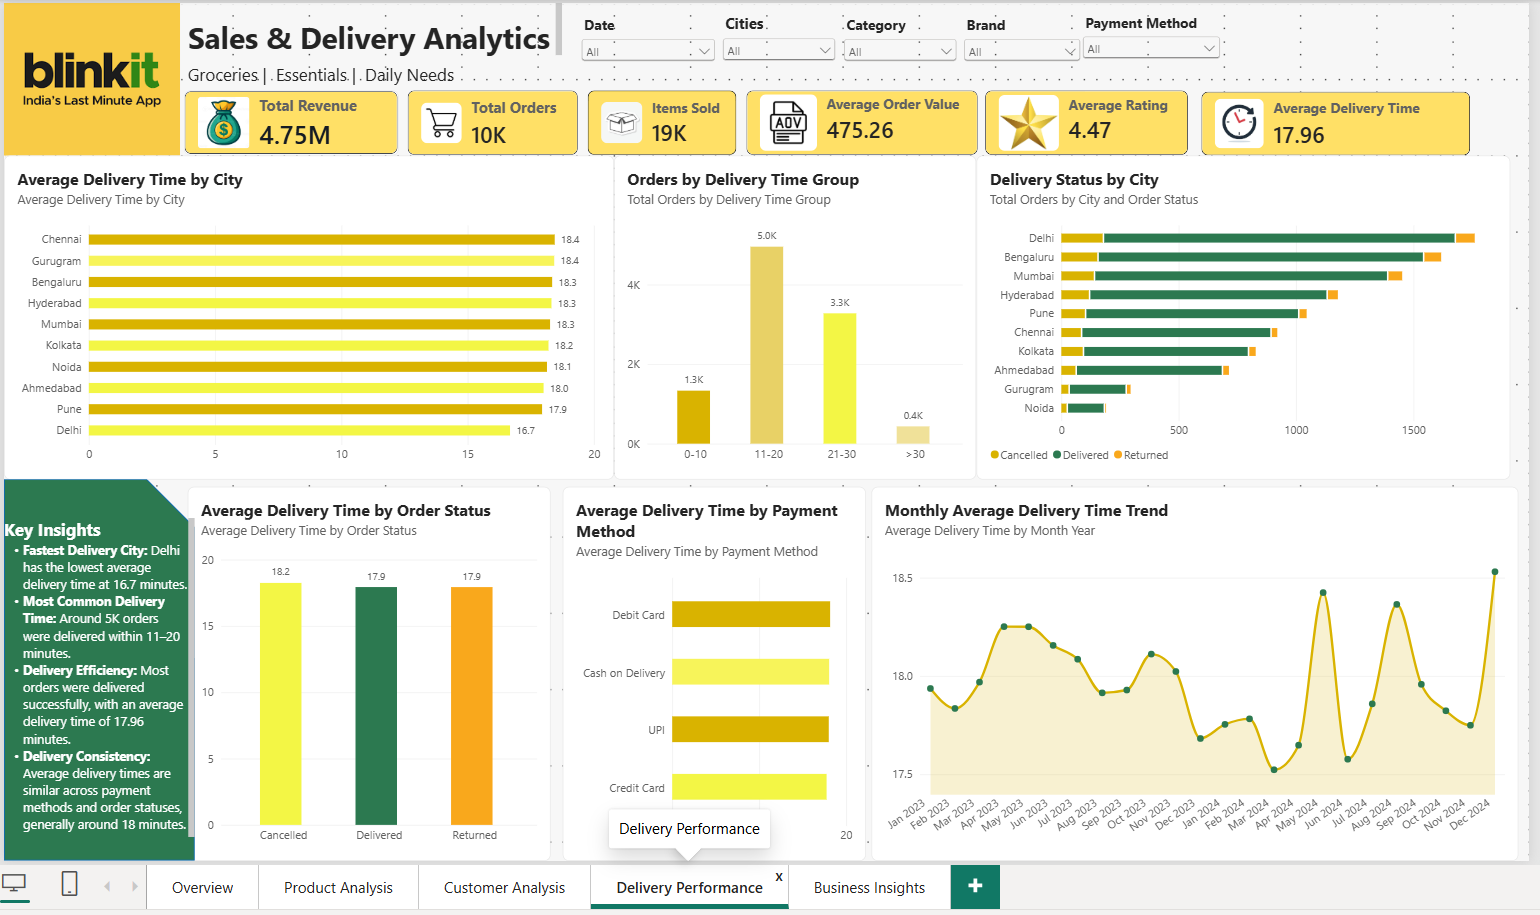

The dashboard page shown, as its layout file describes it:
{"tool":"powerbi","page":{"name":"Delivery Performance","canvas":[1920,1080],"ordinal":3},"visuals":[{"type":"image","box":[0,0,221.7,192.1],"z":1},{"type":"textbox","box":[232.1,0,471.5,75.4],"z":5},{"type":"textbox","box":[372,192,804,138],"z":6},{"type":"textbox","box":[372,330,804,74],"z":7},{"type":"textbox","box":[232.1,75.4,818.8,35.5],"z":8},{"type":"slicer","fields":{"Values":["Calendar1.Date"]},"box":[722.8,16.3,177.4,69.4],"z":9},{"type":"slicer","fields":{"Values":["Cities.City"]},"box":[900.1,13.3,151.6,69.4],"z":10},{"type":"slicer","fields":{"Values":["Orders.Category"]},"box":[1052.4,16.3,151.6,69.4],"z":11},{"type":"slicer","fields":{"Values":["Orders.Brand"]},"box":[1204.6,16.3,156.5,72.6],"z":12},{"type":"slicer","fields":{"Values":["Orders.Payment Method"]},"box":[1353.9,11.8,182.3,64.5],"z":13},{"type":"cardVisual","fields":{"Data":["Calendar1.Total Revenue"]},"box":[226.1,110.9,270.5,81.3],"z":14},{"type":"cardVisual","fields":{"Data":["Calendar1.Total Orders"]},"box":[508.5,110.9,214.3,81.3],"z":15},{"type":"cardVisual","fields":{"Data":["Calendar1.Items Sold"]},"box":[734.6,110.9,187.7,81.3],"z":16},{"type":"cardVisual","fields":{"Data":["Calendar1.Average Order Value"]},"box":[934.1,110.9,291.2,81.3],"z":17},{"type":"cardVisual","fields":{"Data":["Calendar1.Average Rating"]},"box":[1235.7,110.9,255.7,81.3],"z":18},{"type":"cardVisual","fields":{"Data":["Calendar1.Average Delivery Time"]},"box":[1507,111.6,338.4,80.2],"z":19},{"type":"textbox","box":[0,744,240,312],"z":34},{"type":"clusteredBarChart","title":"Average Delivery Time by City","fields":{"Category":["Orders.City"],"Y":["Calendar1.Average Delivery Time"]},"box":[0,192,768,408],"z":35},{"type":"clusteredColumnChart","title":"Orders by Delivery Time Group","fields":{"Category":["Orders.Delivery Time Group"],"Y":["Calendar1.Total Orders"]},"box":[768,192,456,408],"z":36},{"type":"barChart","title":"Delivery Status by City","fields":{"Category":["Orders.City"],"Y":["Calendar1.Total Orders"],"Series":["Orders.Order Status"]},"box":[1224,192,672,408],"z":37},{"type":"clusteredColumnChart","title":"Average Delivery Time by Order Status","fields":{"Category":["Orders.Order Status"],"Y":["Calendar1.Average Delivery Time"]},"box":[232,608.7,457,470.9],"z":38},{"type":"clusteredBarChart","title":"Average Delivery Time by Payment Method","fields":{"Category":["Orders.Payment Method"],"Y":["Calendar1.Average Delivery Time"]},"box":[702.9,608.7,382,470.9],"z":39},{"type":"lineChart","title":"Monthly Average Delivery Time Trend","fields":{"Category":["Calendar1.Month Year"],"Y":["Calendar1.Average Delivery Time"]},"box":[1091.9,608.7,814.5,470.9],"z":40},{"type":"shape","box":[0,600,240,480],"z":41},{"type":"textbox","box":[0,648,240,408],"z":43}]}

Visuals, with their boxes on the page's 1920x1080 design canvas (x1, y1, x2, y2). These are canvas units, not pixel positions in the 1540x915 screenshot, which may show the page scaled, cropped or inside an application window:
image: region(0, 0, 222, 192)
textbox: region(232, 0, 704, 75)
textbox: region(372, 192, 1176, 330)
textbox: region(372, 330, 1176, 404)
textbox: region(232, 75, 1051, 111)
slicer - Calendar1.Date: region(723, 16, 900, 86)
slicer - Cities.City: region(900, 13, 1052, 83)
slicer - Orders.Category: region(1052, 16, 1204, 86)
slicer - Orders.Brand: region(1205, 16, 1361, 89)
slicer - Orders.Payment Method: region(1354, 12, 1536, 76)
cardVisual - Calendar1.Total Revenue: region(226, 111, 497, 192)
cardVisual - Calendar1.Total Orders: region(508, 111, 723, 192)
cardVisual - Calendar1.Items Sold: region(735, 111, 922, 192)
cardVisual - Calendar1.Average Order Value: region(934, 111, 1225, 192)
cardVisual - Calendar1.Average Rating: region(1236, 111, 1491, 192)
cardVisual - Calendar1.Average Delivery Time: region(1507, 112, 1845, 192)
textbox: region(0, 744, 240, 1056)
"Average Delivery Time by City" clusteredBarChart: region(0, 192, 768, 600)
"Orders by Delivery Time Group" clusteredColumnChart: region(768, 192, 1224, 600)
"Delivery Status by City" barChart: region(1224, 192, 1896, 600)
"Average Delivery Time by Order Status" clusteredColumnChart: region(232, 609, 689, 1080)
"Average Delivery Time by Payment Method" clusteredBarChart: region(703, 609, 1085, 1080)
"Monthly Average Delivery Time Trend" lineChart: region(1092, 609, 1906, 1080)
shape: region(0, 600, 240, 1080)
textbox: region(0, 648, 240, 1056)
